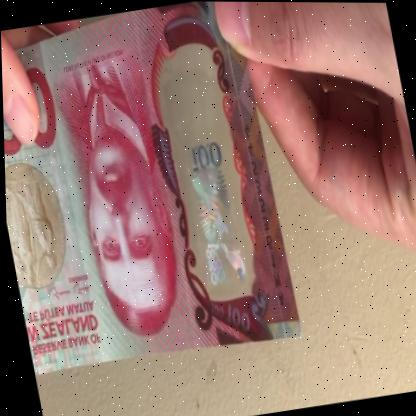100F: (168, 66, 253, 291)
